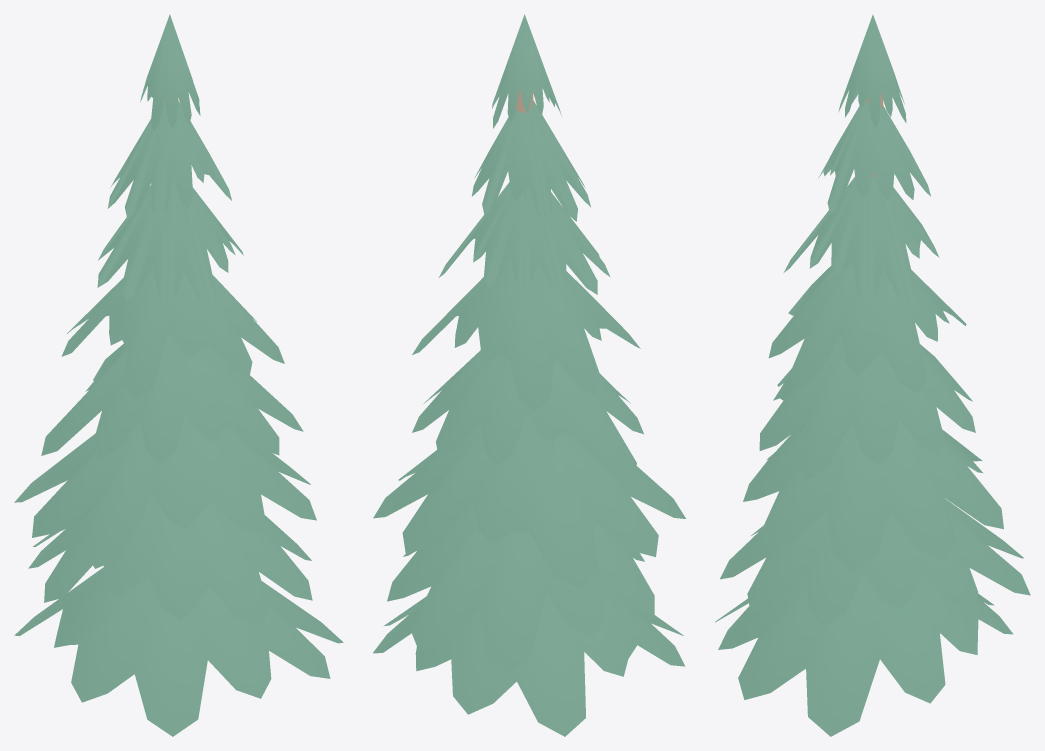
The model's file is Blender_Cedar_1.glb.
3 renders of one model, left to right at view 1: azimuth 30°, elevation 25°; view 2: azimuth 150°, elevation 25°; view 3: azimuth 270°, elevation 25°, orthographic. The views are drawn at different scales.
Parts seen in each view (by area): view 1: Blender_Cedar_1; view 2: Blender_Cedar_1; view 3: Blender_Cedar_1.
Part boxes in pixels (bbox=[...]): Blender_Cedar_1: bbox=[14, 14, 343, 736]; Blender_Cedar_1: bbox=[373, 14, 685, 736]; Blender_Cedar_1: bbox=[715, 14, 1030, 736].
Size of the model in its own units: 11.71 by 25.45 by 11.23.
